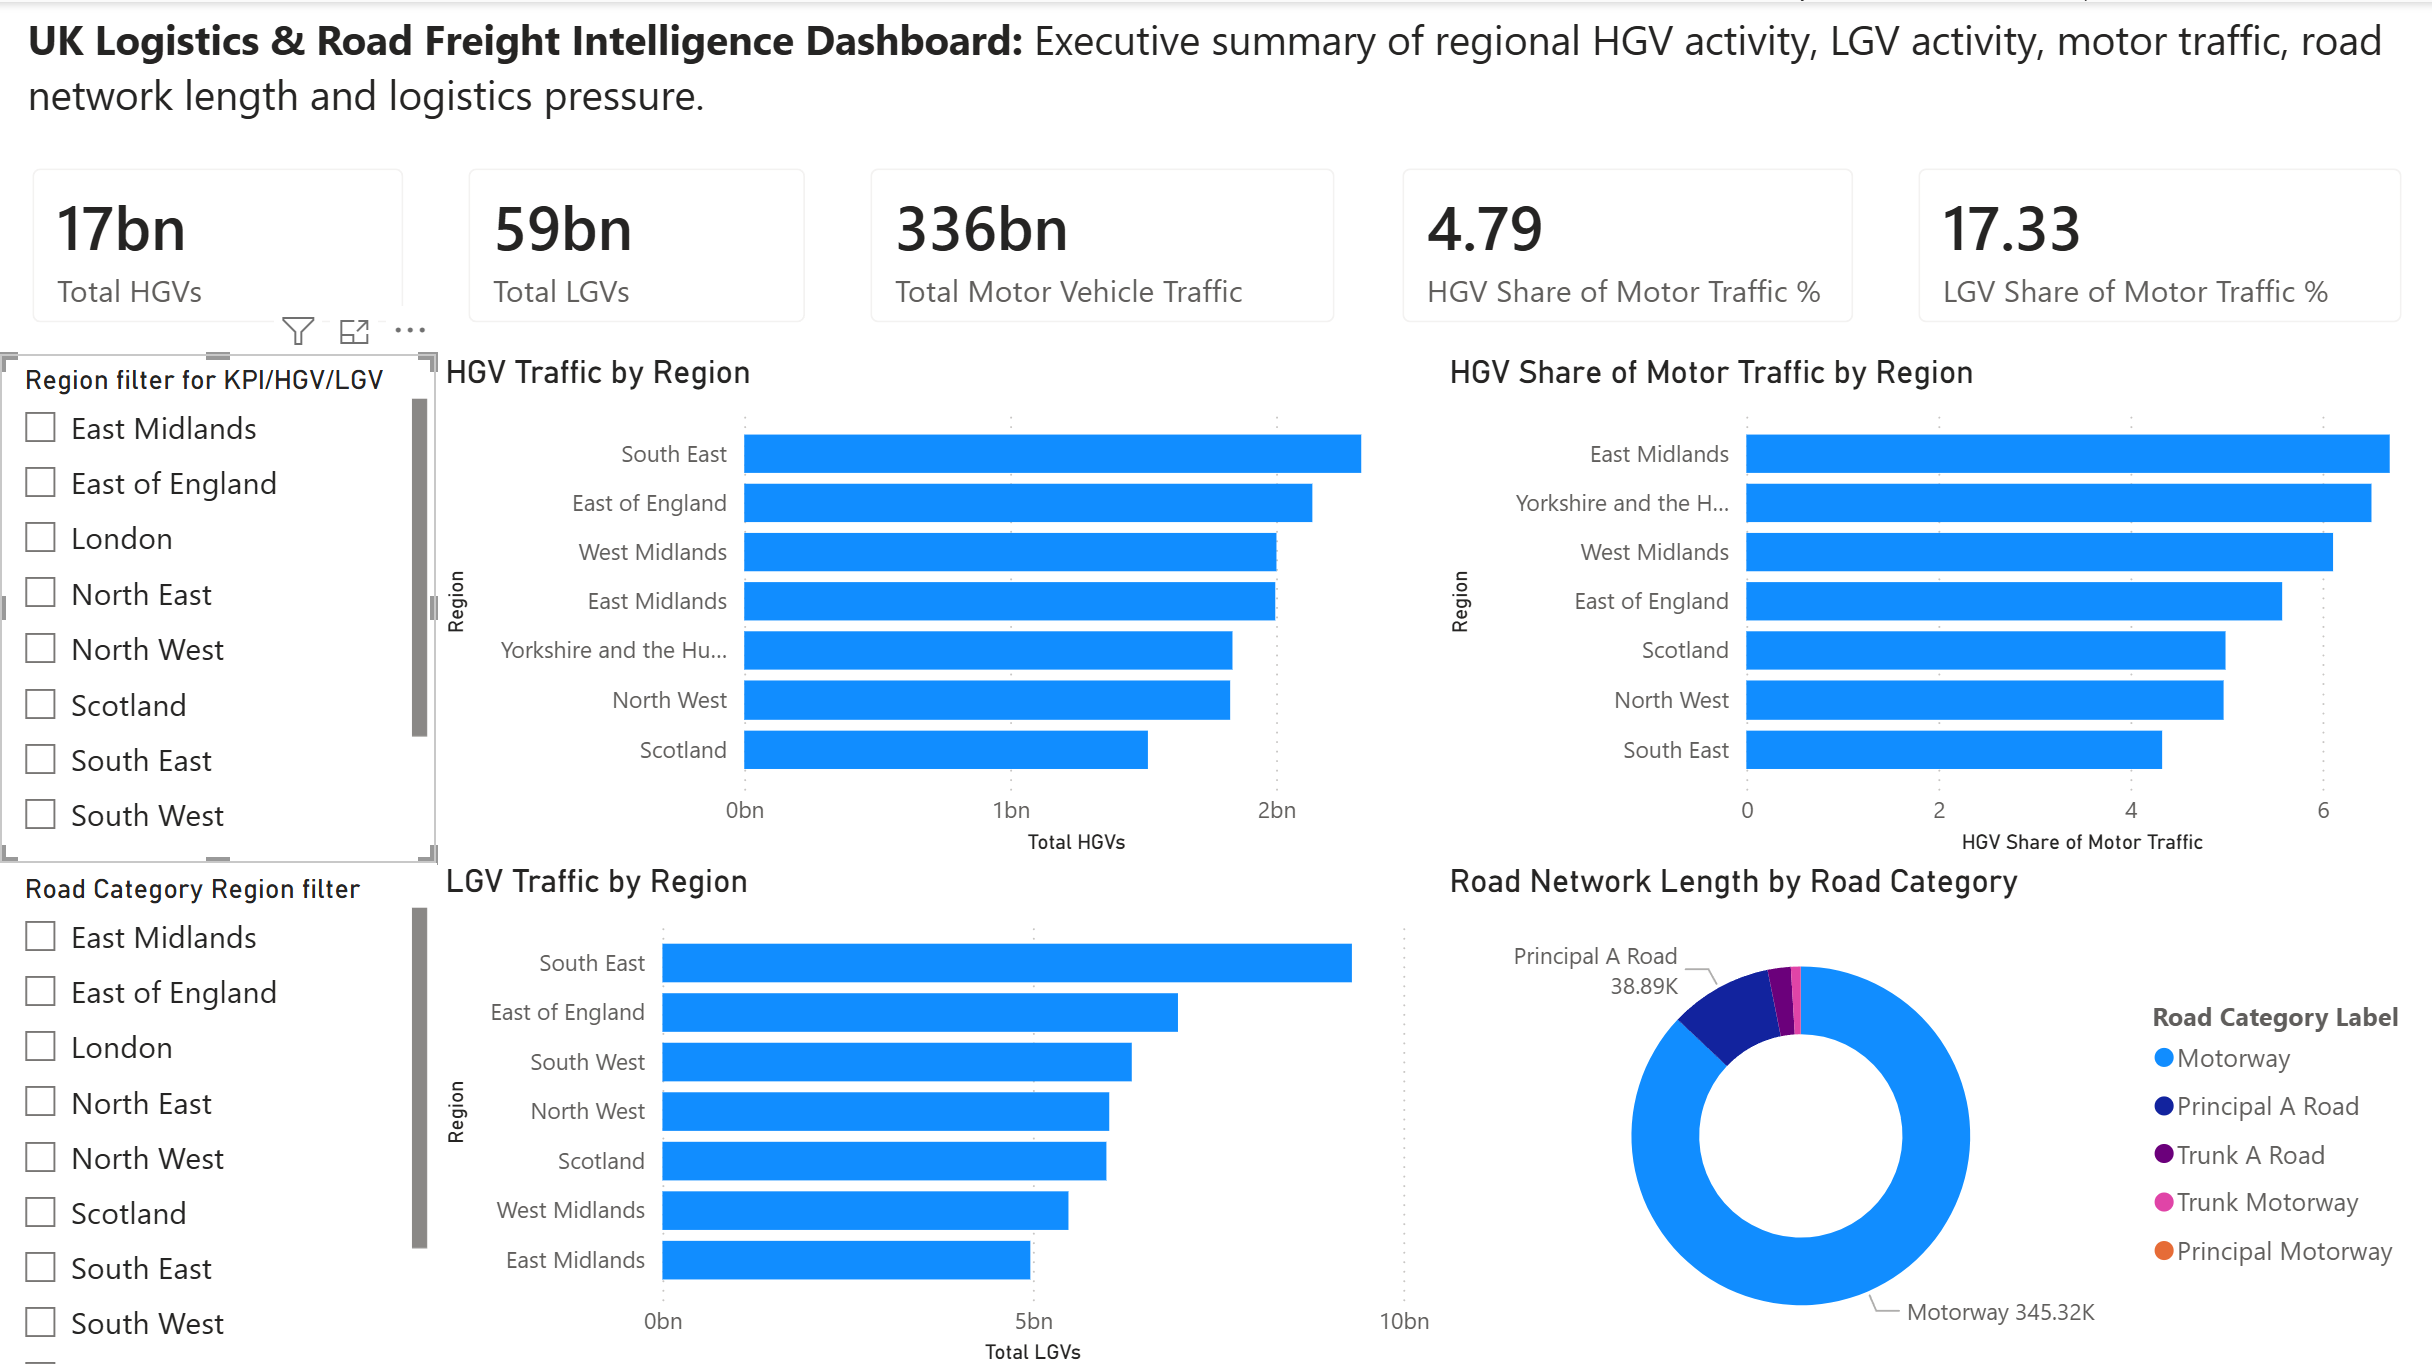

This screenshot's page, from the dashboard's own definition file:
{"tool":"powerbi","page":{"name":"Executive Summary","canvas":[1280,720],"ordinal":0},"visuals":[{"type":"textbox","box":[9.6,0,1270.4,70],"z":0},{"type":"cardVisual","fields":{"Data":["Sum(v_latest_regional_logistics_kpi.total_hgv_traffic)"]},"box":[0,70,229.4,115.4],"z":1000},{"type":"cardVisual","fields":{"Data":["Sum(v_latest_regional_logistics_kpi.total_lgvs)"]},"box":[229.4,70,211.5,115.4],"z":2000},{"type":"cardVisual","fields":{"Data":["Sum(v_latest_regional_logistics_kpi.total_motor_vehicle_traffic)"]},"box":[440.9,70,278.8,115.4],"z":3000},{"type":"cardVisual","fields":{"Data":["Avg(v_latest_regional_logistics_kpi.hgv_share_of_motor_traffic_percent)"]},"box":[719.7,70,271.9,115.4],"z":4000},{"type":"cardVisual","fields":{"Data":["Avg(v_latest_regional_logistics_kpi.lgv_share_of_motor_traffic_percent)"]},"box":[991.6,70,288.4,115.4],"z":5000},{"type":"barChart","title":"HGV Traffic by Region","fields":{"Category":["v_latest_regional_logistics_kpi.region_name"],"Y":["Sum(v_latest_regional_logistics_kpi.total_hgv_traffic)"]},"box":[229.4,185.4,527.4,266.4],"z":6000},{"type":"barChart","title":"LGV Traffic by Region","fields":{"Category":["v_latest_regional_logistics_kpi.region_name"],"Y":["Sum(v_latest_regional_logistics_kpi.total_lgvs)"]},"box":[229.4,451.8,527.4,267.8],"z":7000},{"type":"barChart","title":"HGV Share of Motor Traffic by Region","fields":{"Category":["v_latest_regional_logistics_kpi.region_name"],"Y":["Avg(v_latest_regional_logistics_kpi.hgv_share_of_motor_traffic_percent)"]},"box":[756.7,185.4,523.3,266.4],"z":8000},{"type":"donutChart","title":"Road Network Length by Road Category","fields":{"Category":["v_latest_year_road_type.Road Category Label"],"Y":["Sum(v_latest_year_road_type.link_length_km)"]},"box":[756.7,451.8,523.3,267.8],"z":9000},{"type":"slicer","fields":{"Values":["v_latest_regional_logistics_kpi.region_name"]},"box":[0,185.4,229.4,266.4],"z":10000},{"type":"slicer","fields":{"Values":["v_latest_year_road_type.region_name"]},"box":[0,451.8,229.4,267.8],"z":11000}]}

Visuals, with their boxes on the page's 1280x720 design canvas (x1, y1, x2, y2). These are canvas units, not pixel positions in the 2432x1366 screenshot, which may show the page scaled, cropped or inside an application window:
textbox: [10, 0, 1280, 70]
cardVisual - Sum(v_latest_regional_logistics_kpi.total_hgv_traffic): [0, 70, 229, 185]
cardVisual - Sum(v_latest_regional_logistics_kpi.total_lgvs): [229, 70, 441, 185]
cardVisual - Sum(v_latest_regional_logistics_kpi.total_motor_vehicle_traffic): [441, 70, 720, 185]
cardVisual - Avg(v_latest_regional_logistics_kpi.hgv_share_of_motor_traffic_percent): [720, 70, 992, 185]
cardVisual - Avg(v_latest_regional_logistics_kpi.lgv_share_of_motor_traffic_percent): [992, 70, 1280, 185]
"HGV Traffic by Region" barChart: [229, 185, 757, 452]
"LGV Traffic by Region" barChart: [229, 452, 757, 720]
"HGV Share of Motor Traffic by Region" barChart: [757, 185, 1280, 452]
"Road Network Length by Road Category" donutChart: [757, 452, 1280, 720]
slicer - v_latest_regional_logistics_kpi.region_name: [0, 185, 229, 452]
slicer - v_latest_year_road_type.region_name: [0, 452, 229, 720]
